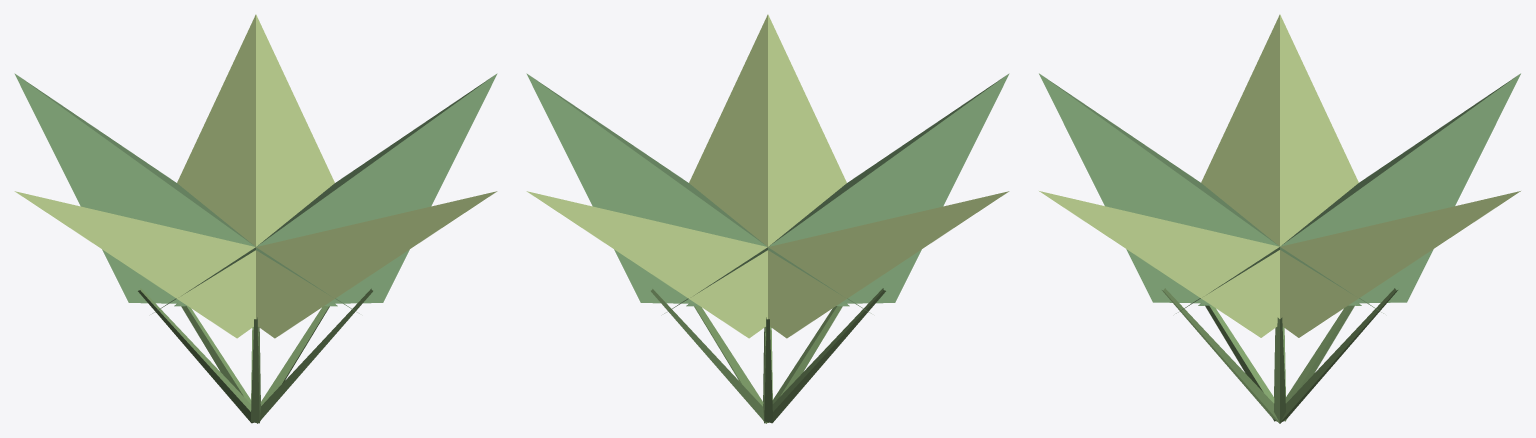
3 renders of one model, left to right at view 1: azimuth 30°, elevation 25°; view 2: azimuth 150°, elevation 25°; view 3: azimuth 270°, elevation 25°, orthographic.
Visible parts, largest first — view 1: Body; view 2: Body; view 3: Body.
Boxes of the visible parts, <box> form: Body: <box>14,14,497,423</box>; Body: <box>526,14,1009,423</box>; Body: <box>1039,14,1520,423</box>.
Bounding box in the file's own units: 1.99 × 1.14 × 1.72.
